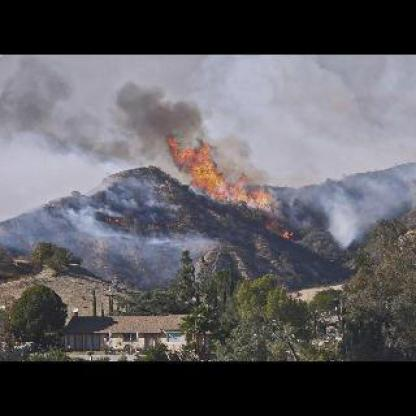fire: (163, 124, 269, 208)
